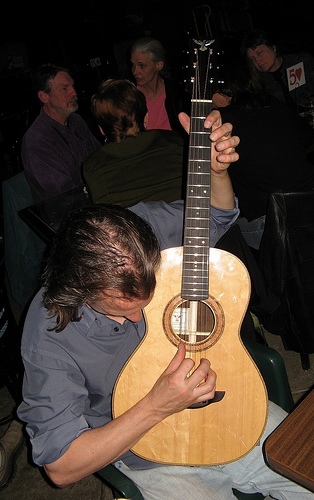guitar: (108, 26, 272, 471)
